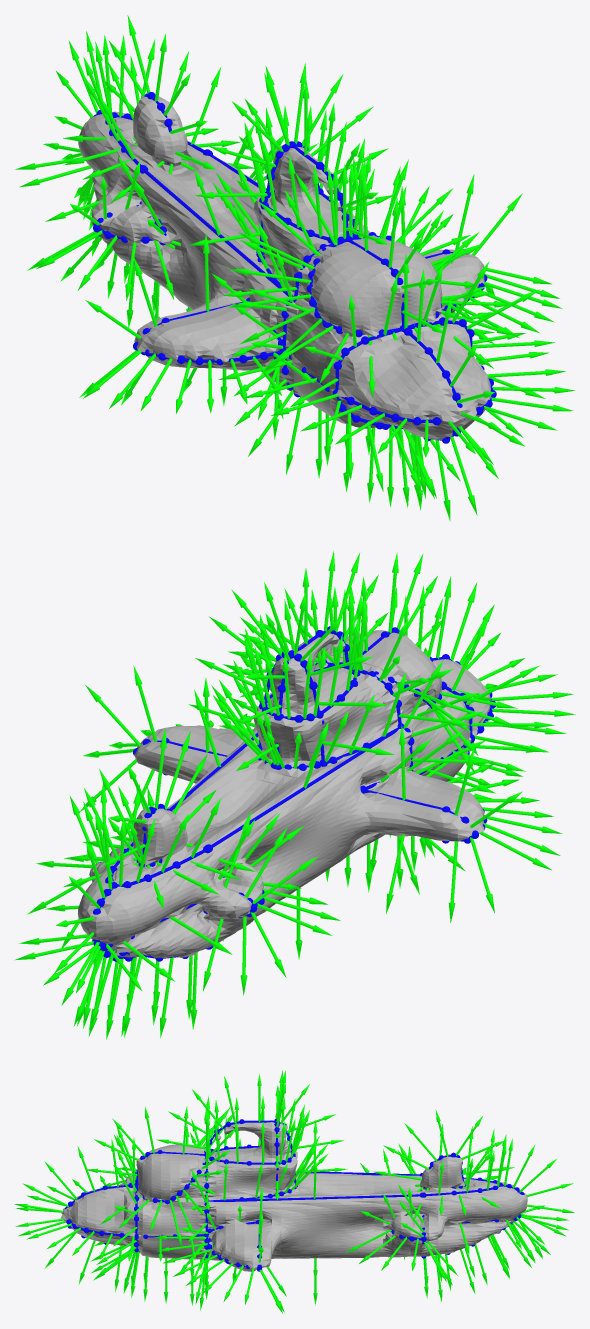
The model's file is scaffolds3d_submarine.gltf.
The picture shows the model from 3 angles, top to bottom: view 1: azimuth 30°, elevation 25°; view 2: azimuth 150°, elevation 25°; view 3: azimuth 270°, elevation 25°; orthographic projection. The views are drawn at different scales.
Size of the model in its own units: 0.6358 by 0.4546 by 1.05.
